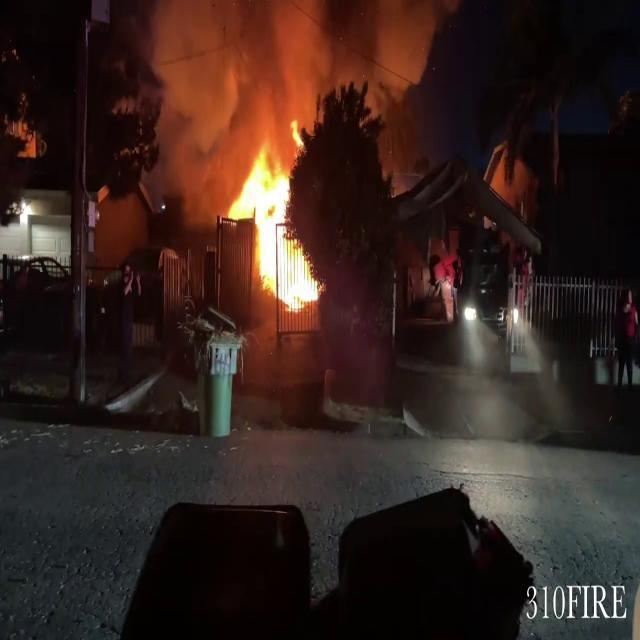Fire: (230, 133, 327, 319)
Smoke: (144, 0, 320, 196)
